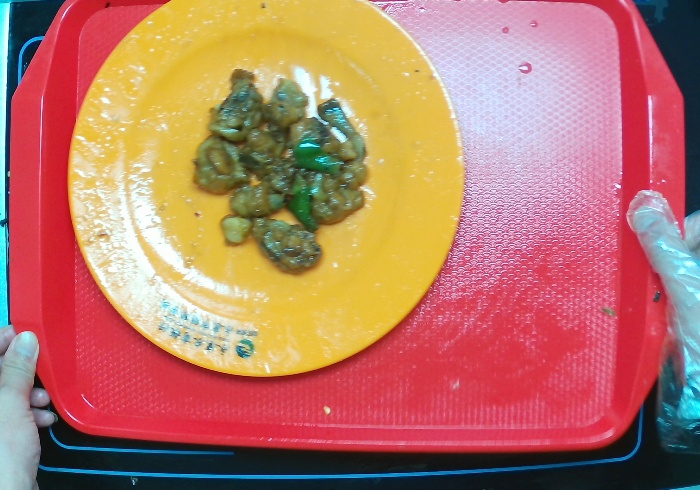YKMZ-Ju_Se_Mian_Pan: (57, 1, 482, 399)
